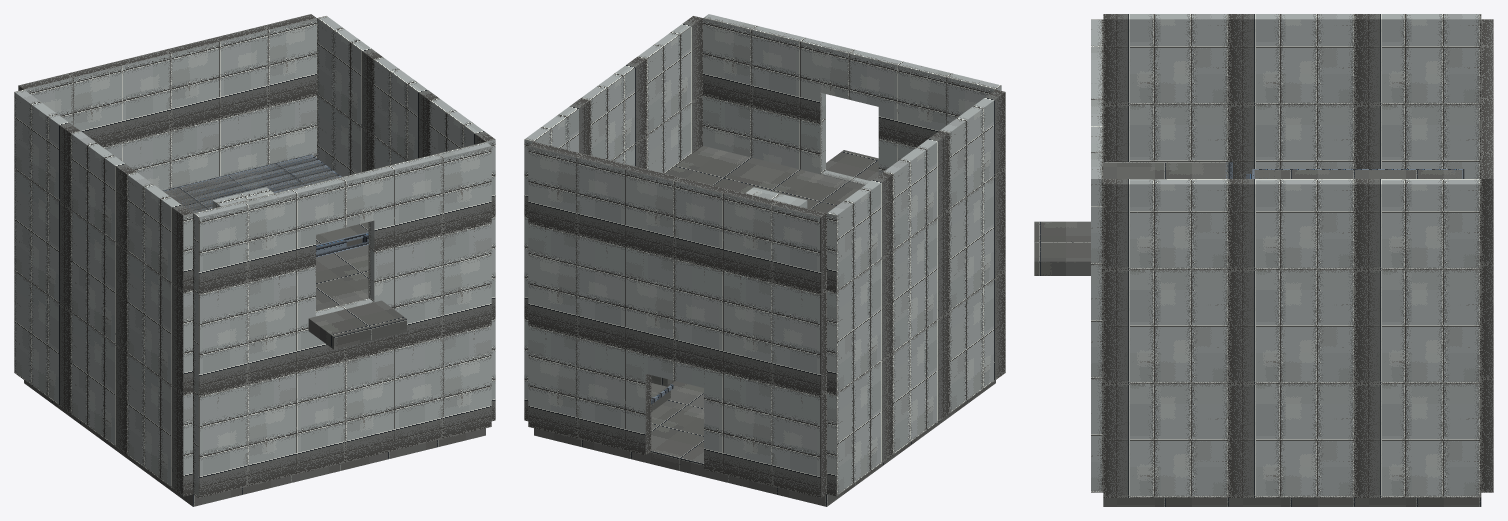
Rendered from shell_tower_collapsed.glb.
3 renders of one model, left to right at view 1: azimuth 30°, elevation 25°; view 2: azimuth 150°, elevation 25°; view 3: azimuth 270°, elevation 25°, orthographic. The views are drawn at different scales.
Parts seen in each view (by area): view 1: shell_tower_collapsed; view 2: shell_tower_collapsed; view 3: shell_tower_collapsed.
Boxes of the visible parts, left/top/right/bottom form: shell_tower_collapsed: left=14, top=14, right=495, bottom=506; shell_tower_collapsed: left=524, top=14, right=1005, bottom=506; shell_tower_collapsed: left=1034, top=14, right=1493, bottom=506.
Bounding box in the file's own units: 12.8 × 11.5 × 14.6.
44 materials, 44 textured.
